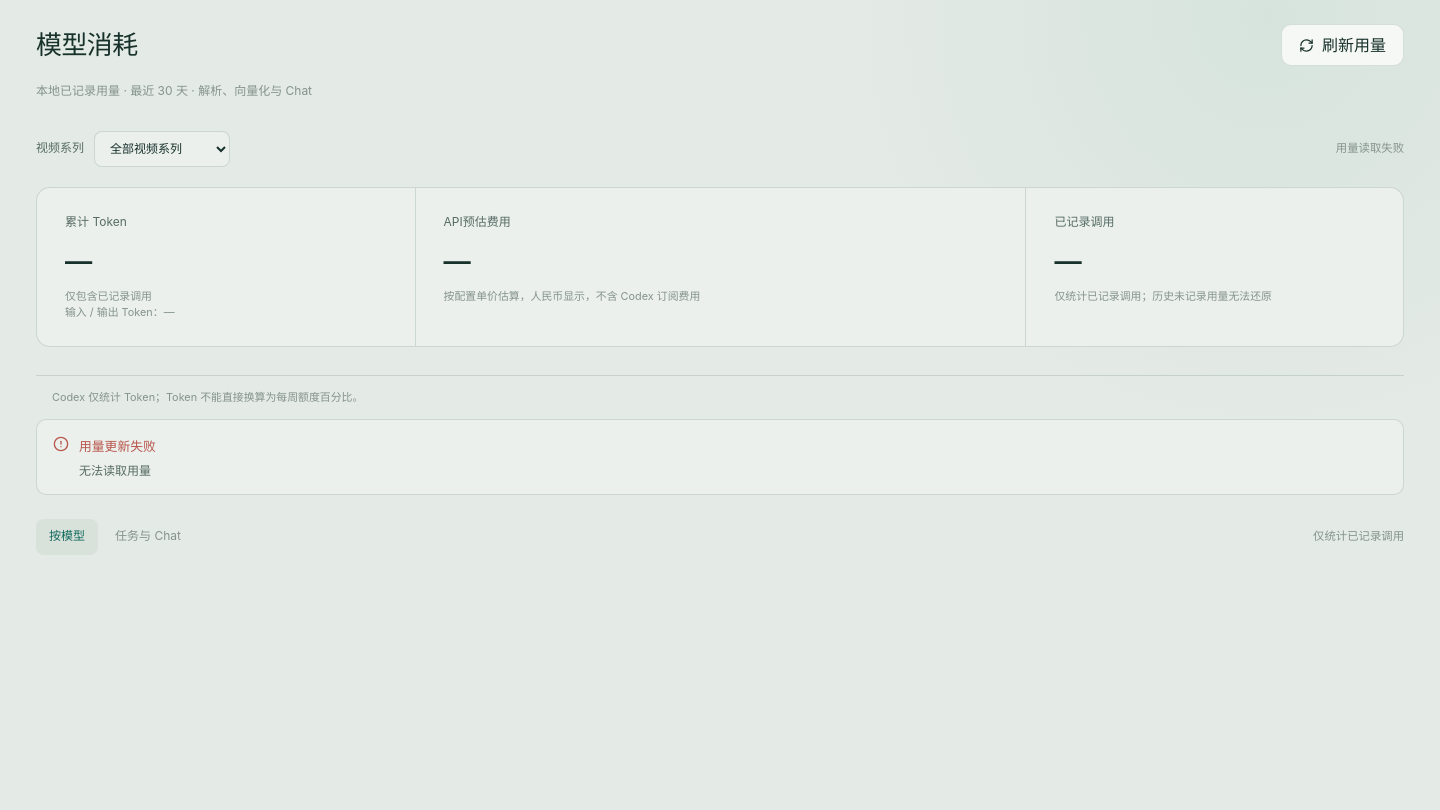
it: local Token usage page › shows a failed read and refreshes with a single retry request
Expected: the message shows "无法读取用量", [79,463,151,478]
Expected: the text "—" is shown 3 times, [65,245,92,276]; [444,245,470,276]; [1054,245,1081,276]
Step 1. Click the button "刷新用量" → x=1342, y=45, box [1281,24,1404,66]
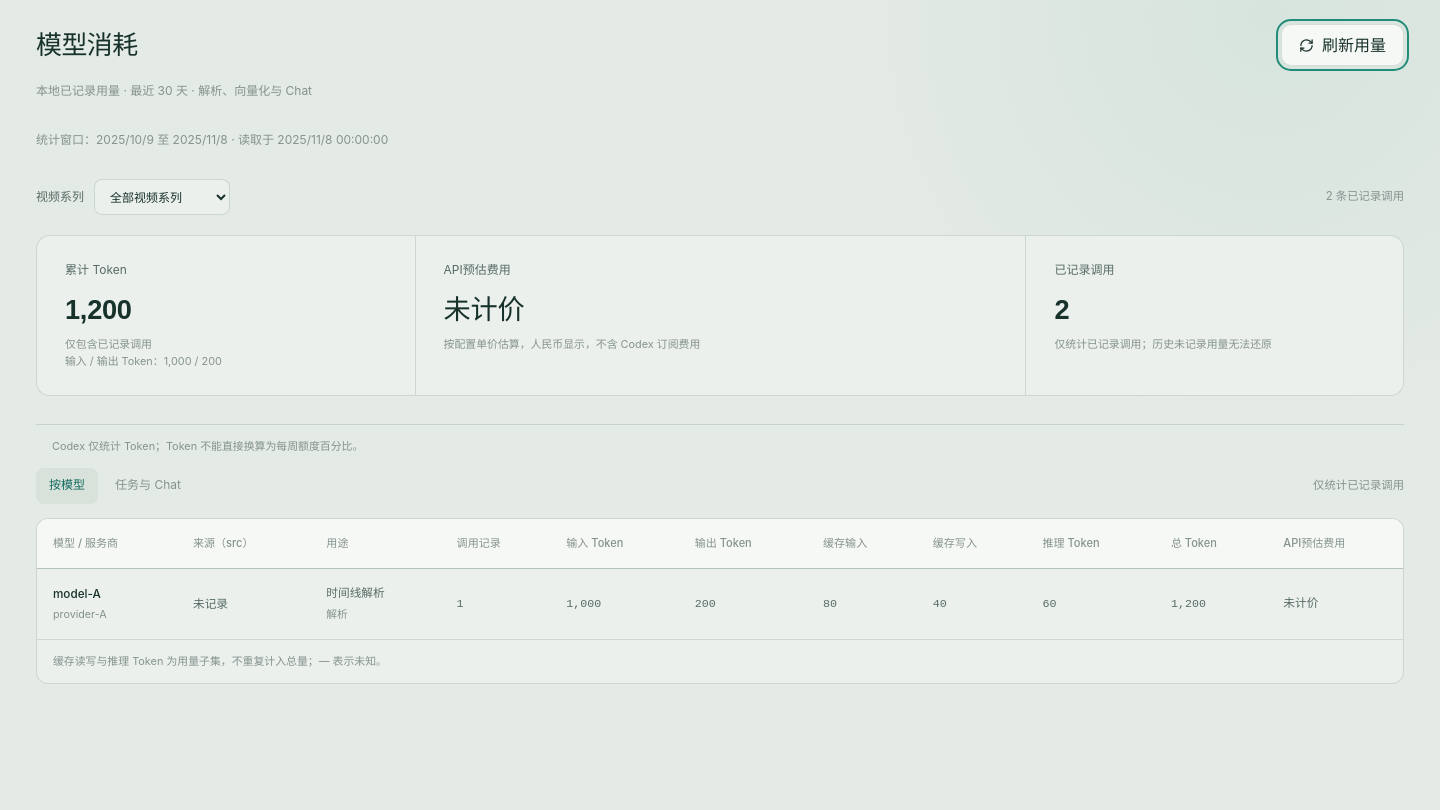
Expected: the text "2 条已记录调用" is shown, [1326,188,1404,206]
